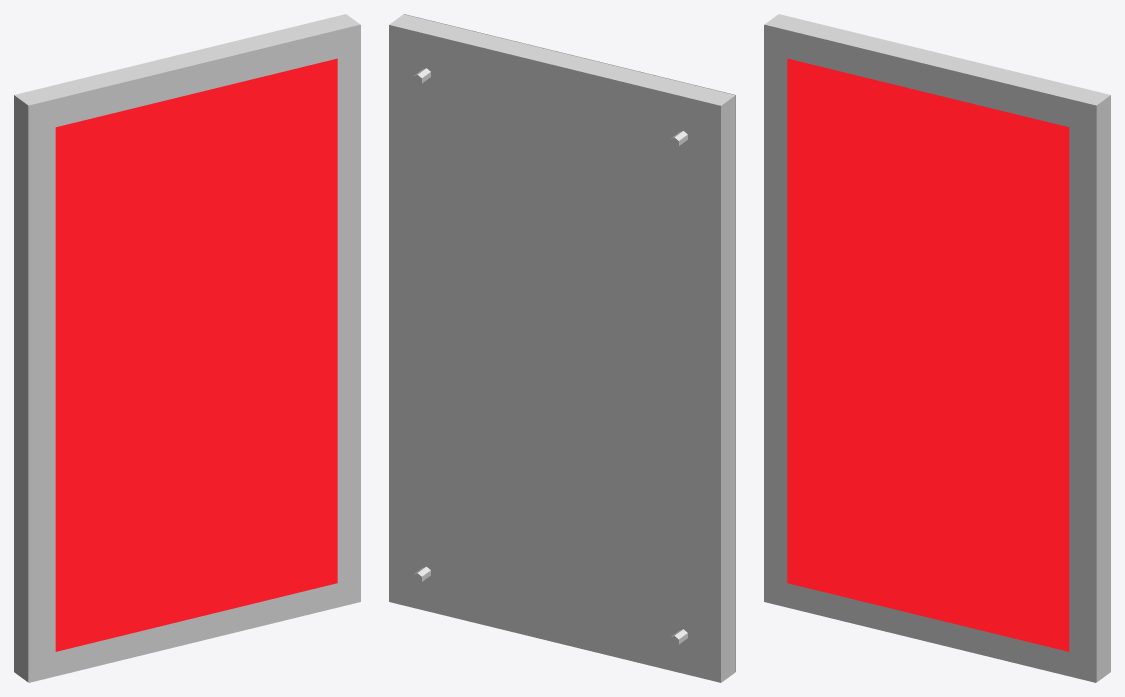
Rendered from sign_yado_vertical.glb.
The picture shows the model from 3 angles, left to right: view 1: azimuth 30°, elevation 25°; view 2: azimuth 150°, elevation 25°; view 3: azimuth 330°, elevation 25°; orthographic projection.
Visible parts, largest first — view 1: sign_yado_vertical_LOD0; view 2: sign_yado_vertical_LOD0; view 3: sign_yado_vertical_LOD0.
Boxes of the visible parts, x1,y1,x2,y2 form: sign_yado_vertical_LOD0: (14, 14, 360, 682); sign_yado_vertical_LOD0: (389, 14, 735, 682); sign_yado_vertical_LOD0: (764, 14, 1110, 682).
Size of what is drawn, in the model's own units: 0.53 by 0.88 by 0.071.
